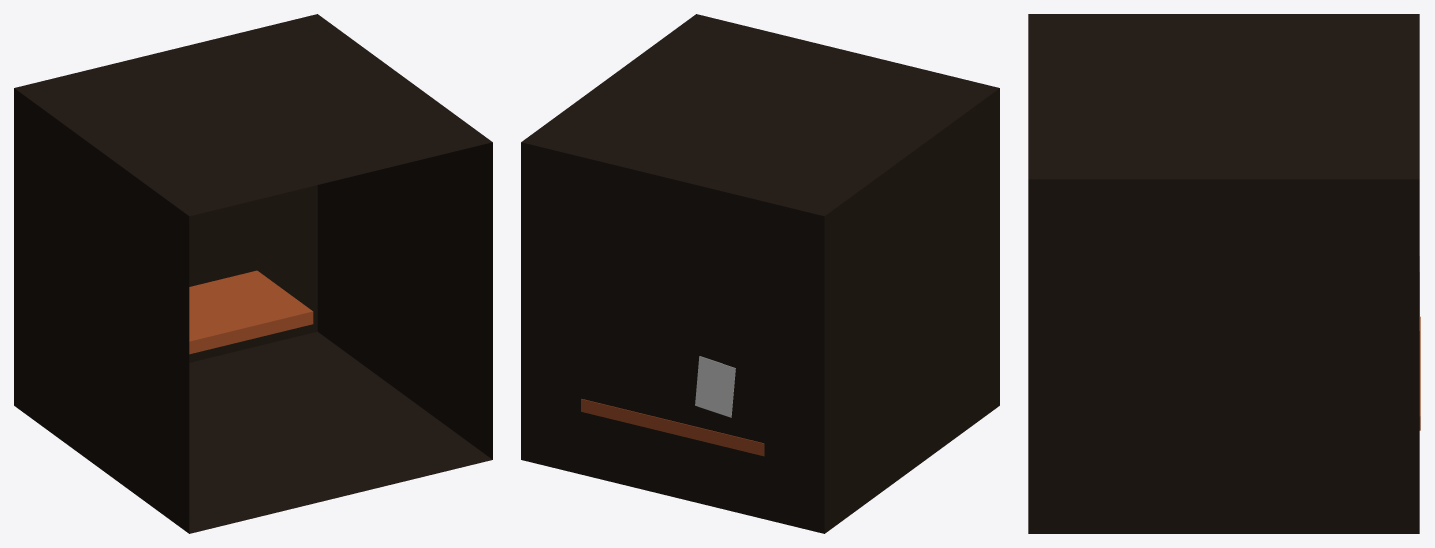
The model's file is Room.fbx.
The picture shows the model from 3 angles, left to right: view 1: azimuth 30°, elevation 25°; view 2: azimuth 150°, elevation 25°; view 3: azimuth 270°, elevation 25°; orthographic projection. The views are drawn at different scales.
Visible parts, largest first — view 1: Cube.001, Cube; view 2: Cube.001, Cube, Frame; view 3: Cube.001.
Boxes of the visible parts, <box> form: Cube.001: <box>14,14,492,533</box>; Cube: <box>189,270,313,354</box>; Cube.001: <box>521,14,999,533</box>; Cube: <box>581,399,764,456</box>; Frame: <box>695,356,735,417</box>; Cube.001: <box>1028,14,1419,533</box>.
Size of the model in its own units: 4980 by 4980 by 4990.
